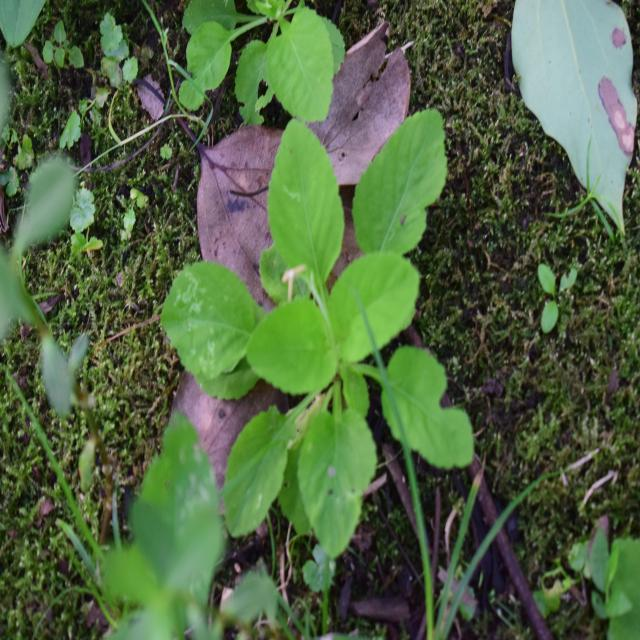Viola: (192, 116, 483, 533)
